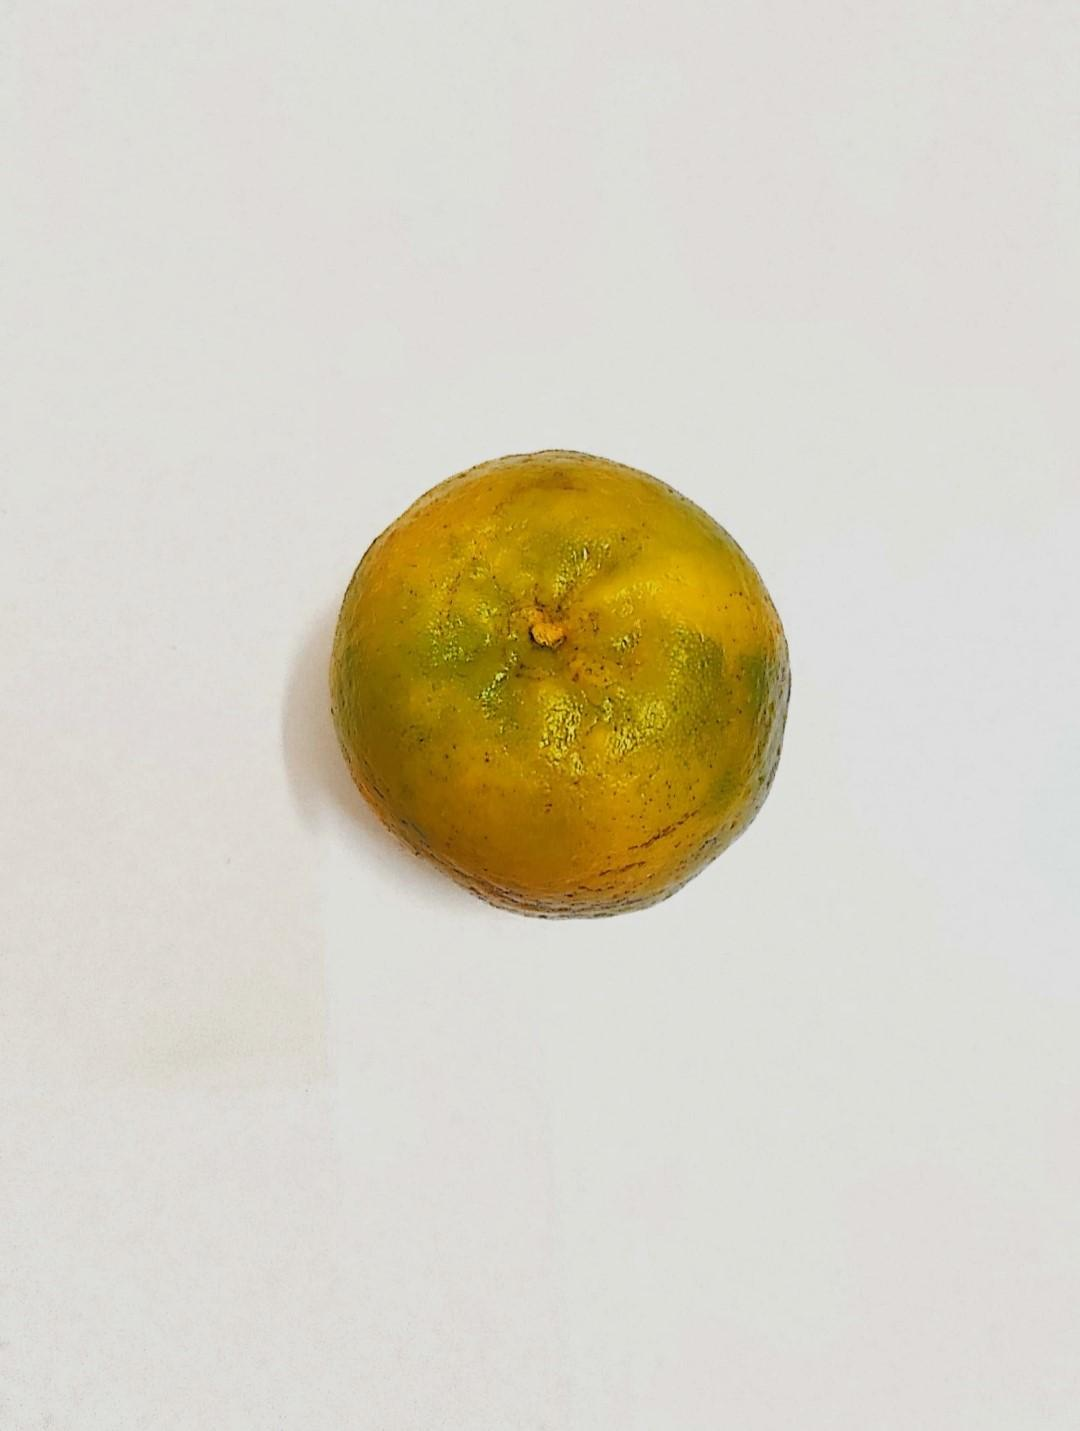Ripe: (327, 464, 767, 904)
